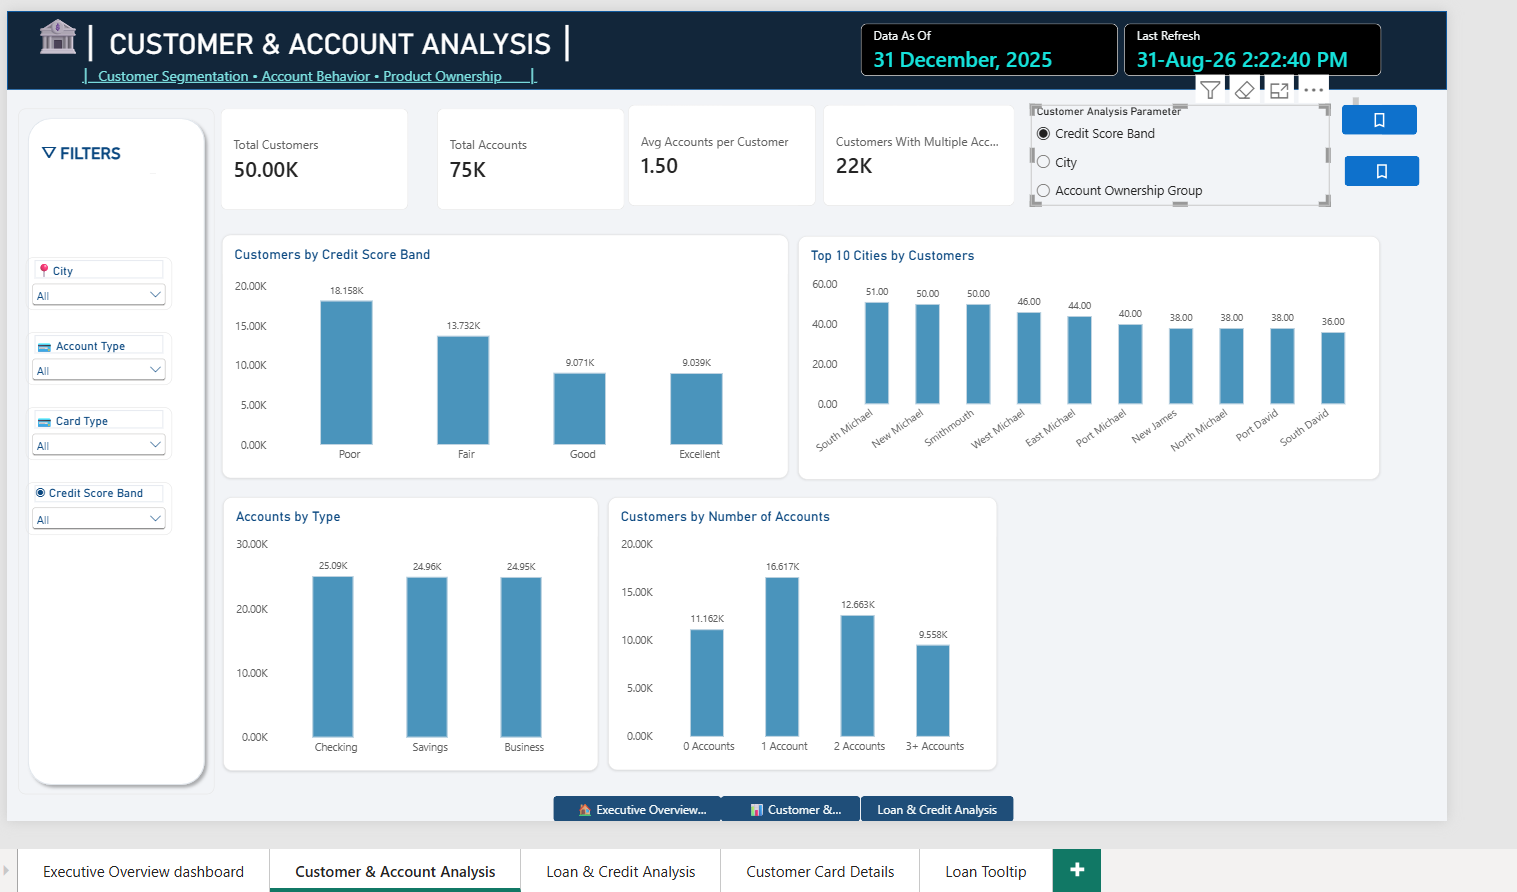

The dashboard page shown, as its layout file describes it:
{"tool":"powerbi","page":{"name":"Customer & Account Analysis","canvas":[1920,1080],"ordinal":1},"visuals":[{"type":"shape","box":[0,0,1920,105],"z":0},{"type":"donutChart","title":"Cards by Type","fields":{"Category":["cards.card_type"],"Y":["analysis.Total Cards"]},"box":[286,641,512.5,402.5],"z":0,"group":"g1"},{"type":"cardVisual","fields":{"Data":["analysis.Total Customers"]},"box":[285,130,250,135],"z":1000},{"type":"cardVisual","fields":{"Data":["analysis.Avg Cards per Customer"]},"box":[1066,130,250,135],"z":1000,"group":"g1"},{"type":"textbox","title":"│  CUSTOMER & ACCOUNT ANALYSIS                                        │","box":[100,17.5,1702.3,108.1],"z":2000},{"type":"cardVisual","fields":{"Data":["analysis.Customers With Cards"]},"box":[546,130,250,135],"z":2000,"group":"g1"},{"type":"cardVisual","fields":{"Data":["analysis.Total Cards"]},"box":[806,130,250,135],"z":3000,"group":"g1"},{"type":"shape","box":[14.3,130.6,261.3,914.5],"z":3000},{"type":"textbox","title":"▽  FILTERS","box":[44.7,177.2,153.5,40.1],"z":4000},{"type":"textbox","box":[34.3,0,82.6,71.7],"z":5000},{"type":"slicer","fields":{"Values":["customers.city"]},"box":[25,328,195,70],"z":6000},{"type":"slicer","fields":{"Values":["accounts.account_type"]},"box":[25,428,195,70],"z":7000},{"type":"slicer","fields":{"Values":["cards.card_type"]},"box":[25,528,195,70],"z":8000},{"type":"slicer","fields":{"Values":["customers.Credit Score Band"]},"box":[25,628,195,70],"z":9000},{"type":"columnChart","title":"Top 10 Cities by Customers","fields":{"Category":["customers.city"],"Y":["analysis.Total Customers"]},"box":[1055,300,775,325],"z":10000},{"type":"slicer","fields":{"Values":["Customer Analysis Parameter.Customer Analysis Parameter"]},"box":[1365,125,397.5,135],"z":12000},{"type":"columnChart","fields":{"Category":["customers.Credit Score Band"],"Y":["analysis.Total Customers"]},"box":[286,298,755,325],"z":13000},{"type":"group","id":"g1","title":"Card view","box":[286,130,1428,918],"z":14000},{"type":"actionButton","box":[728.4,1046,224,34],"z":15000},{"type":"clusteredColumnChart","title":"Cards by Account Type","fields":{"Category":["accounts.account_type"],"Y":["analysis.Total Cards"]},"box":[870,640,844,408],"z":15001,"group":"g1"},{"type":"actionButton","box":[952.4,1046,186,34],"z":16000},{"type":"actionButton","box":[1138.4,1046,204,34],"z":17000},{"type":"cardVisual","fields":{"Data":["analysis.Data As Of","Min(Refresh Info.Last Refresh)"]},"box":[1138,16,694,70],"z":18000},{"type":"actionButton","box":[1782.5,192.5,100,40],"z":19000},{"type":"actionButton","box":[1780,125,100,40],"z":20000}]}

Visuals, with their boxes on the page's 1920x1080 design canvas (x1, y1, x2, y2). These are canvas units, not pixel positions in the 1517x892 screenshot, which may show the page scaled, cropped or inside an application window:
shape: bbox=(0, 0, 1920, 105)
"Cards by Type" donutChart: bbox=(286, 641, 798, 1044)
cardVisual - analysis.Total Customers: bbox=(285, 130, 535, 265)
cardVisual - analysis.Avg Cards per Customer: bbox=(1066, 130, 1316, 265)
"│  CUSTOMER & ACCOUNT ANALYSIS                                        │" textbox: bbox=(100, 18, 1802, 126)
cardVisual - analysis.Customers With Cards: bbox=(546, 130, 796, 265)
cardVisual - analysis.Total Cards: bbox=(806, 130, 1056, 265)
shape: bbox=(14, 131, 276, 1045)
"▽  FILTERS" textbox: bbox=(45, 177, 198, 217)
textbox: bbox=(34, 0, 117, 72)
slicer - customers.city: bbox=(25, 328, 220, 398)
slicer - accounts.account_type: bbox=(25, 428, 220, 498)
slicer - cards.card_type: bbox=(25, 528, 220, 598)
slicer - customers.Credit Score Band: bbox=(25, 628, 220, 698)
"Top 10 Cities by Customers" columnChart: bbox=(1055, 300, 1830, 625)
slicer - Customer Analysis Parameter.Customer Analysis Parameter: bbox=(1365, 125, 1762, 260)
columnChart - customers.Credit Score Band x analysis.Total Customers: bbox=(286, 298, 1041, 623)
"Card view" group: bbox=(286, 130, 1714, 1048)
actionButton: bbox=(728, 1046, 952, 1080)
"Cards by Account Type" clusteredColumnChart: bbox=(870, 640, 1714, 1048)
actionButton: bbox=(952, 1046, 1138, 1080)
actionButton: bbox=(1138, 1046, 1342, 1080)
cardVisual - analysis.Data As Of x Min(Refresh Info.Last Refresh): bbox=(1138, 16, 1832, 86)
actionButton: bbox=(1782, 192, 1882, 232)
actionButton: bbox=(1780, 125, 1880, 165)
